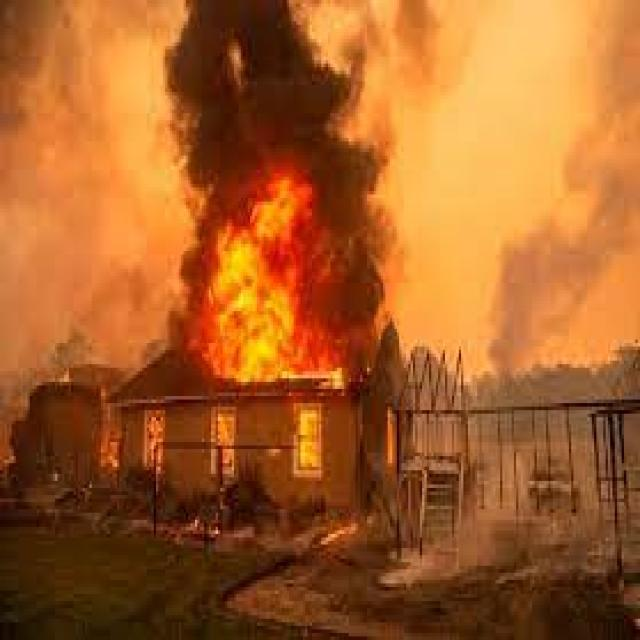Fire: (216, 195, 312, 368)
Smoke: (180, 0, 353, 220), (304, 198, 402, 374)
